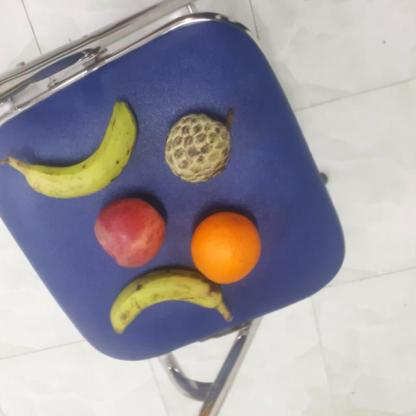annona: (162, 108, 236, 184)
apple: (93, 199, 169, 270)
banana: (21, 98, 140, 202), (106, 264, 229, 337)
orange: (190, 210, 263, 286)
